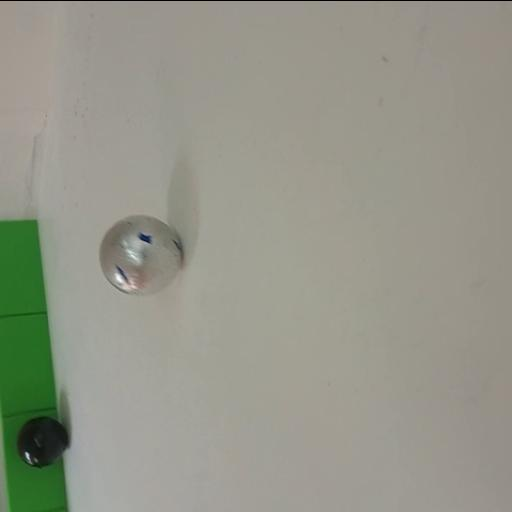alive: (99, 214, 183, 296)
dead: (16, 416, 68, 468)
